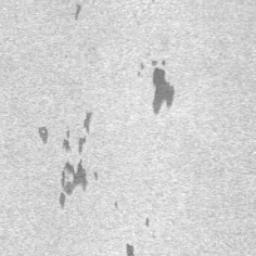Iron scale compression: (58, 162, 86, 209), (153, 69, 173, 115), (38, 127, 48, 145), (63, 128, 70, 152), (84, 113, 91, 132), (150, 59, 167, 66), (126, 245, 134, 256), (76, 4, 81, 16), (144, 217, 150, 227)
